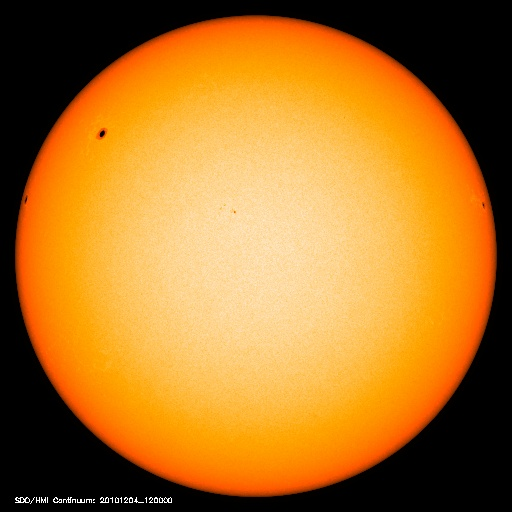sunspot: (88, 121, 118, 146), (212, 197, 243, 221), (471, 194, 496, 218), (15, 186, 35, 212)
